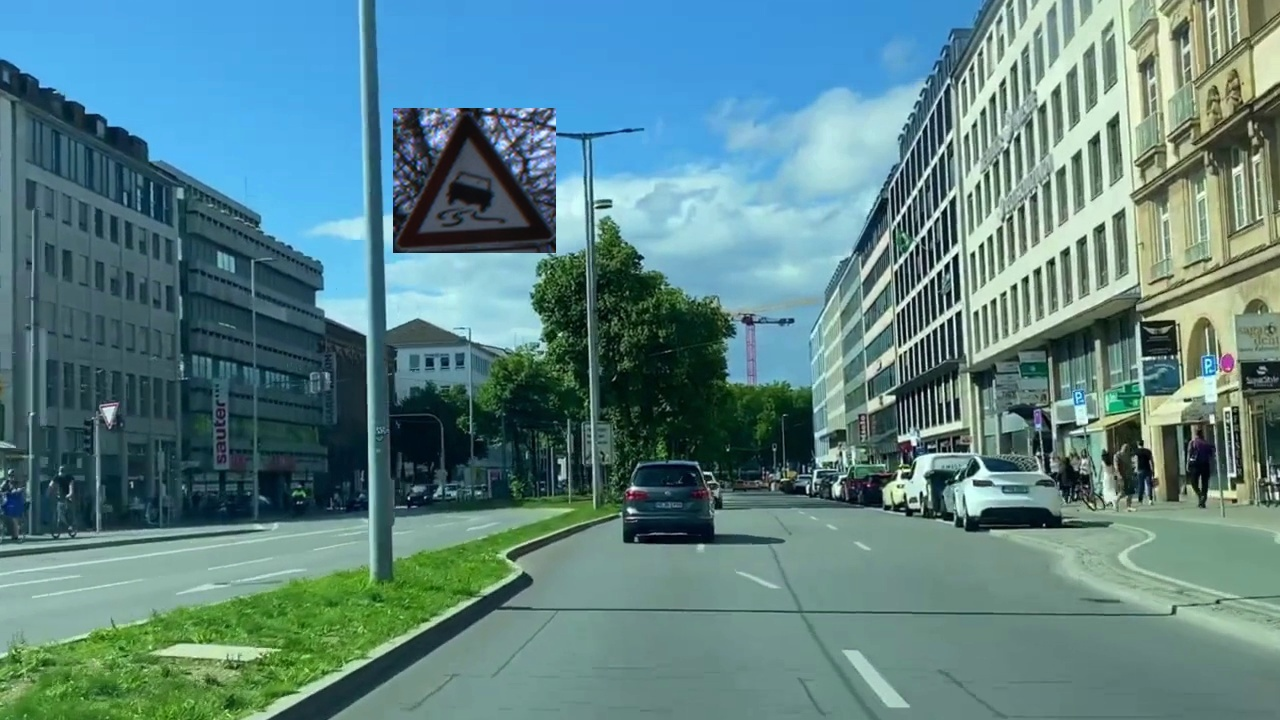Slippery: (393, 108, 556, 253)
